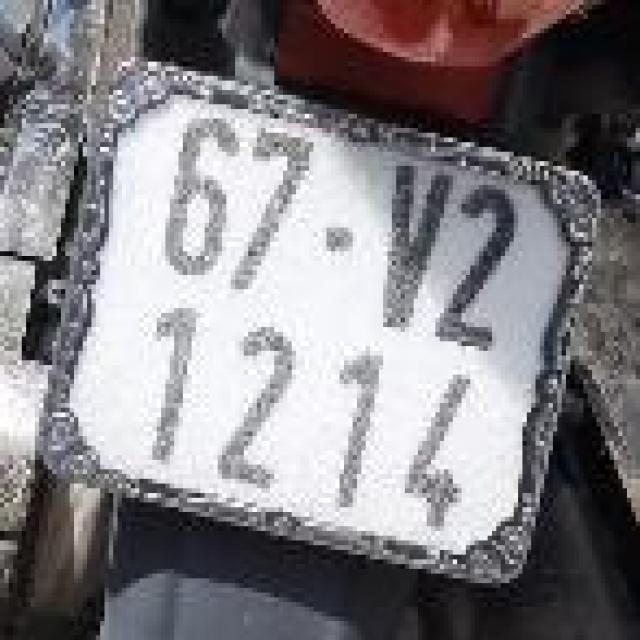1: (128, 288, 222, 480), (317, 340, 399, 528)
2: (425, 165, 535, 379), (202, 310, 321, 507)
4: (378, 364, 504, 544)
6: (147, 102, 251, 295)
7: (221, 111, 331, 315)
V: (365, 154, 463, 356)
